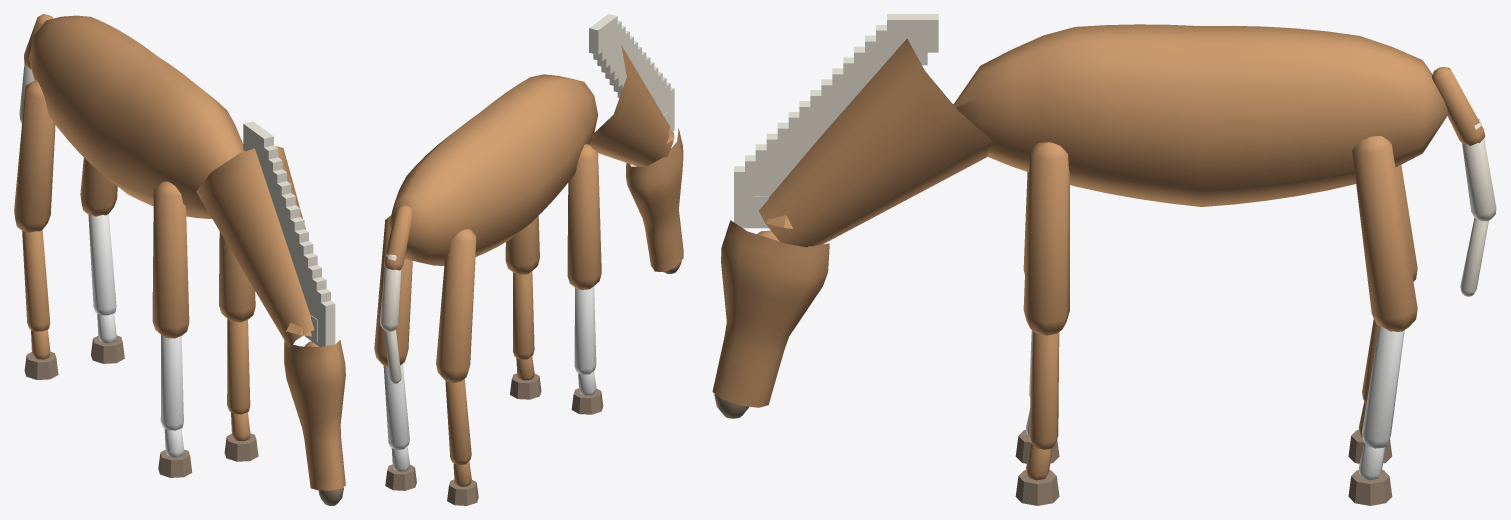
File: riding-horse-grazing-chestnut.glb
The picture shows the model from 3 angles, left to right: view 1: azimuth 30°, elevation 25°; view 2: azimuth 150°, elevation 25°; view 3: azimuth 270°, elevation 25°; orthographic projection. The views are drawn at different scales.
Parts seen in each view (by area): view 1: horse-grazing-chestnut; view 2: horse-grazing-chestnut; view 3: horse-grazing-chestnut.
Boxes of the visible parts, <box> form: horse-grazing-chestnut: <box>14,14,345,505</box>; horse-grazing-chestnut: <box>374,14,683,505</box>; horse-grazing-chestnut: <box>712,14,1496,505</box>.
Bounding box in the file's own units: 0.4689 × 1.66 × 2.57.
